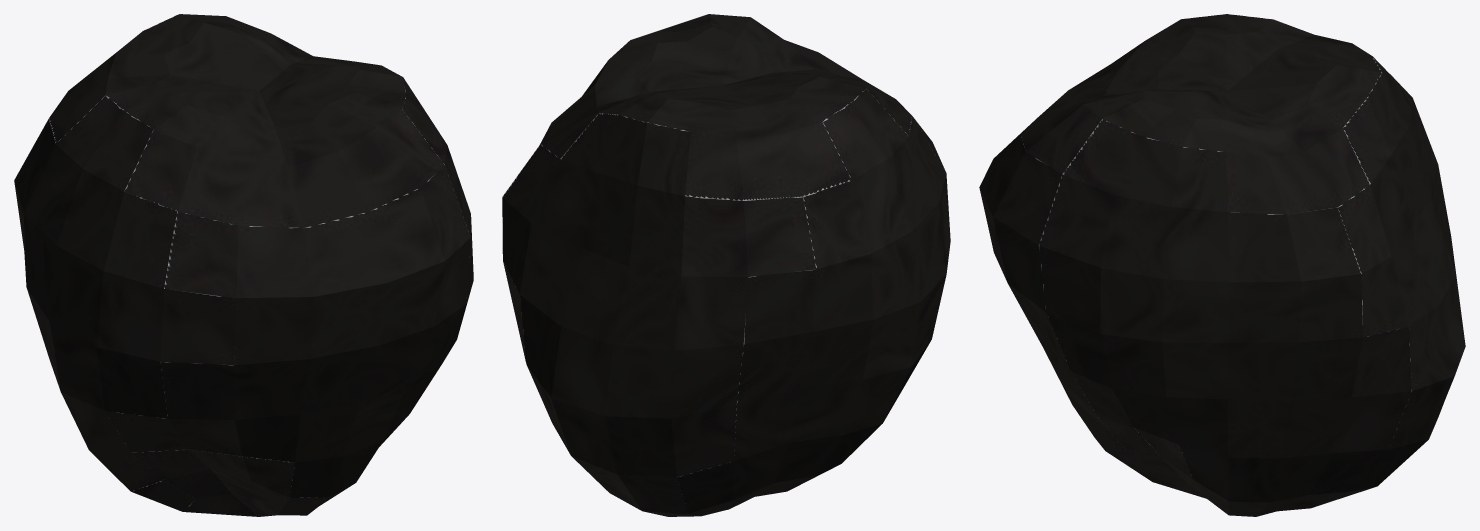
File: asteroid1.dae
The picture shows the model from 3 angles, left to right: view 1: azimuth 30°, elevation 25°; view 2: azimuth 150°, elevation 25°; view 3: azimuth 270°, elevation 25°; orthographic projection. The views are drawn at different scales.
Parts seen in each view (by area): view 1: asteroid1; view 2: asteroid1; view 3: asteroid1.
Part boxes in pixels (bbox=[...]): asteroid1: bbox=[14, 14, 473, 516]; asteroid1: bbox=[502, 14, 950, 516]; asteroid1: bbox=[979, 14, 1465, 516].
Size of the model in its own units: 130 by 147 by 147.
1 material, 1 textured.
